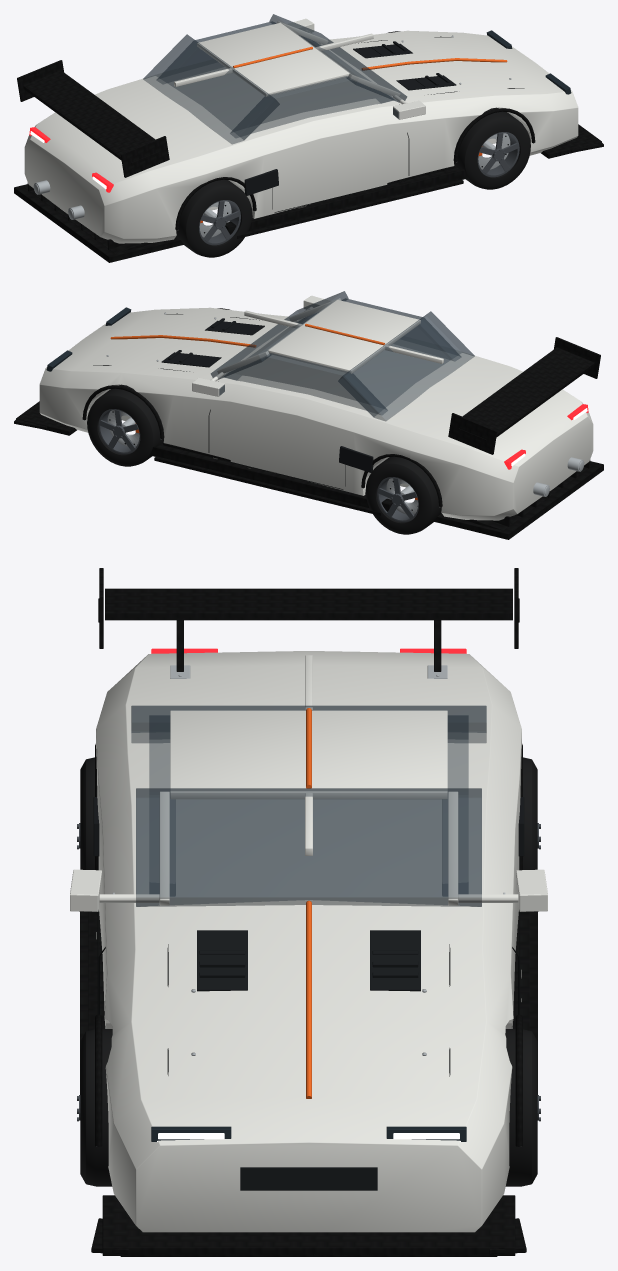
Rendered from gt3-car.glb.
3 renders of one model, top to bottom at view 1: azimuth 30°, elevation 25°; view 2: azimuth 150°, elevation 25°; view 3: azimuth 270°, elevation 25°, orthographic. The views are drawn at different scales.
Parts seen in each view (by area): view 1: Main_Body, Rear_Window, Rear_Wing, Side_Window_R, Side_Skirt_R, Wheel_FR, Wheel_RR, Rear_Diffuser, Windshield, Side_Window_L, Hood_Vents, Front_Splitter (+4 smaller); view 2: Main_Body, Rear_Window, Rear_Wing, Side_Window_L, Side_Skirt_L, Wheel_FL, Wheel_RL, Rear_Diffuser, Windshield, Side_Window_R, Hood_Vents, Front_Splitter (+4 smaller); view 3: Main_Body, Windshield, Rear_Wing, Front_Splitter, Hood_Vents, Rear_Window, Wheel_FL, Wheel_FR, Side_Window_L, Side_Window_R, Side_Skirt_R, Side_Skirt_L (+6 smaller).
Part boxes in pixels (x1,y1,x2,y2): Main_Body: (24,21,578,243); Rear_Window: (143,34,279,144); Rear_Wing: (17,60,169,177); Side_Window_R: (230,76,393,137); Side_Skirt_R: (225,166,467,238); Wheel_FR: (453,107,530,189); Wheel_RR: (176,179,252,257); Rear_Diffuser: (14,183,183,262); Windshield: (269,14,406,102); Side_Window_L: (157,21,319,83); Hood_Vents: (353,41,456,90); Front_Splitter: (541,124,603,158); Main_Body: (39,298,593,520); Rear_Window: (338,311,474,421); Rear_Wing: (448,337,600,454); Side_Window_L: (224,353,387,414); Side_Skirt_L: (150,443,392,515); Wheel_FL: (87,384,164,466); Wheel_RL: (365,456,441,534); Rear_Diffuser: (434,460,603,539); Windshield: (211,291,348,379); Side_Window_R: (298,298,460,360); Hood_Vents: (161,318,264,367); Front_Splitter: (14,401,76,435); Main_Body: (93,651,524,1232); Windshield: (136,788,481,906); Rear_Wing: (98,568,519,678); Front_Splitter: (91,1195,526,1256); Hood_Vents: (197,930,420,991); Rear_Window: (131,705,486,742); Wheel_FL: (505,1029,540,1186); Wheel_FR: (77,1029,112,1186); Side_Window_L: (442,715,468,895); Side_Window_R: (149,715,175,895); Side_Skirt_R: (80,910,105,1094); Side_Skirt_L: (512,910,537,1094).
Bounding box in the file's own units: 5.18 × 1.33 × 2.16.
14 materials, 1 textured.
